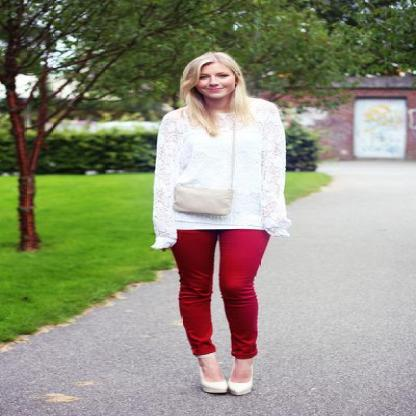bag: (173, 182, 233, 220)
pants: (169, 229, 270, 358)
shirt: (151, 97, 294, 249)
shoe: (202, 374, 254, 396)
